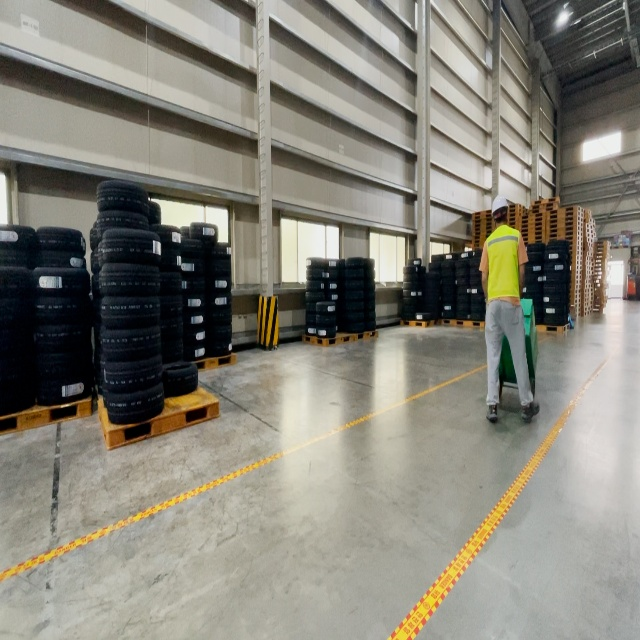Worker: (478, 193, 541, 425)
